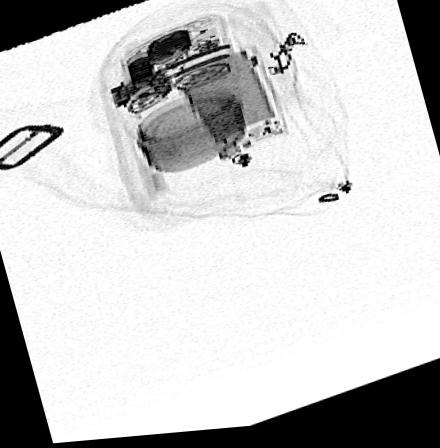Powerbank: (165, 51, 289, 166)
